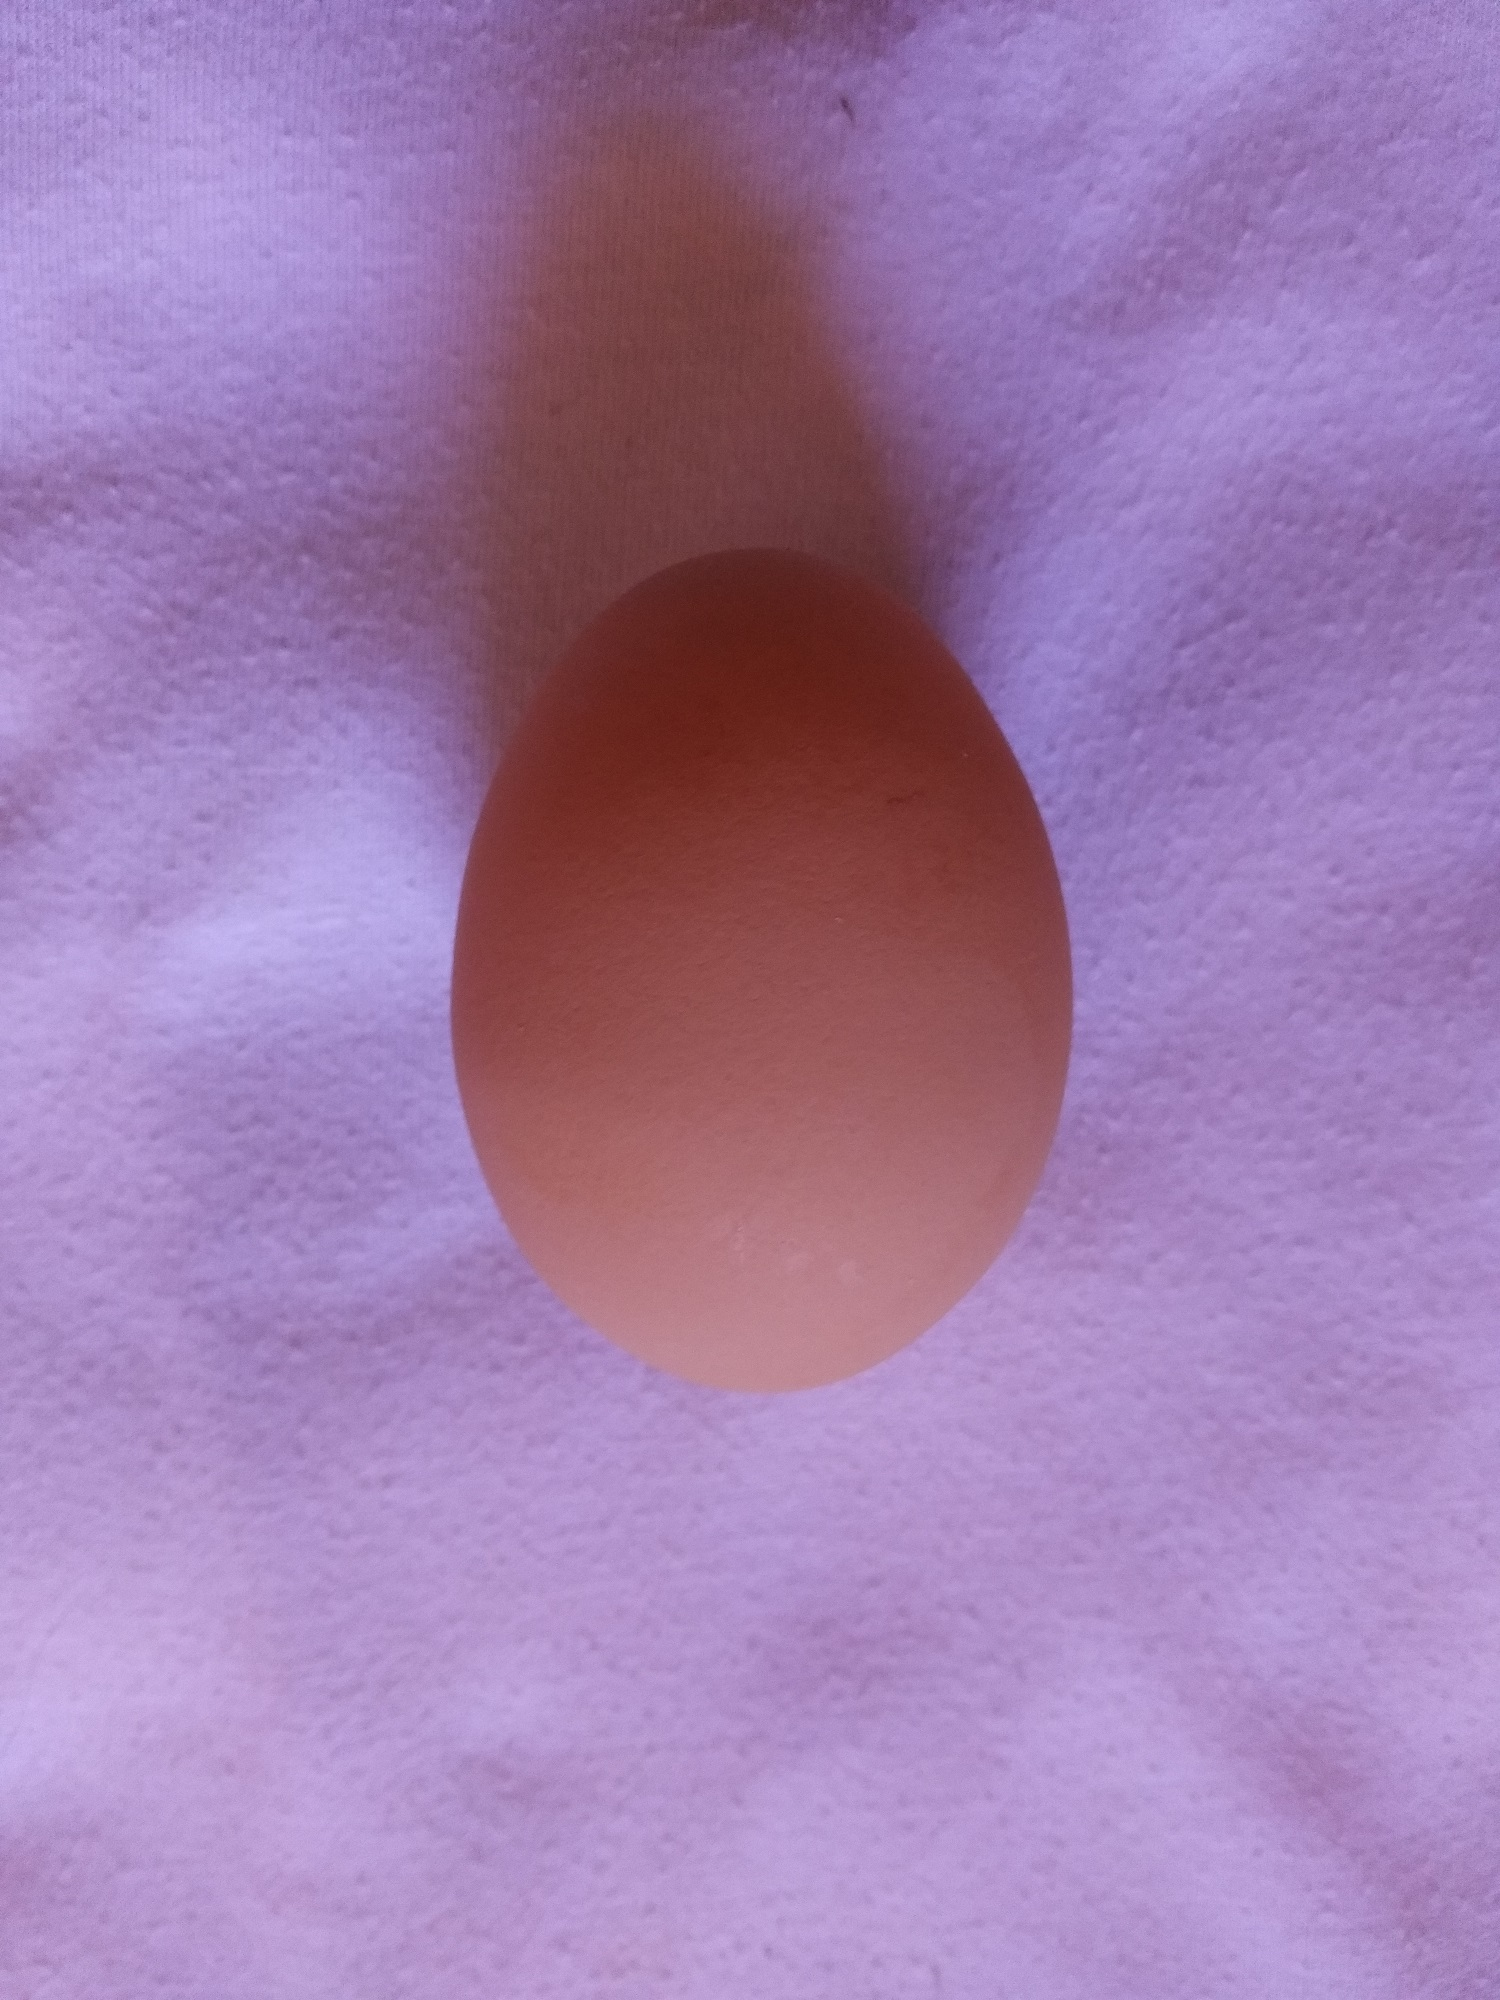Female: (440, 540, 1079, 1398)
